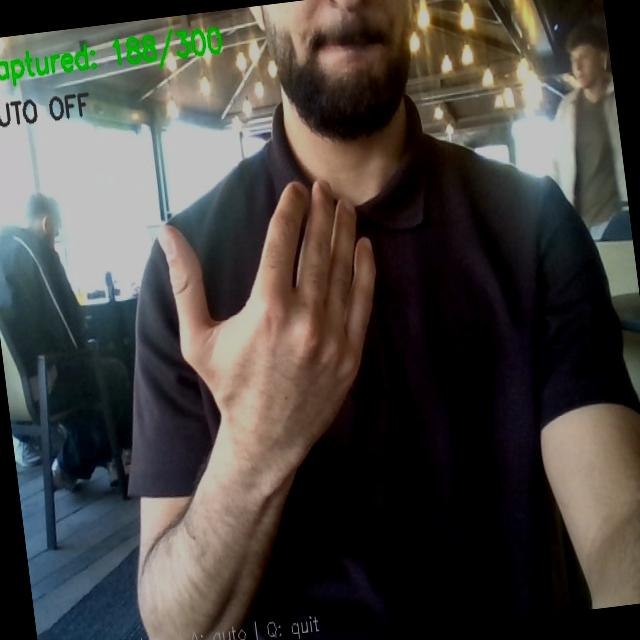Hand: (159, 183, 374, 460)
